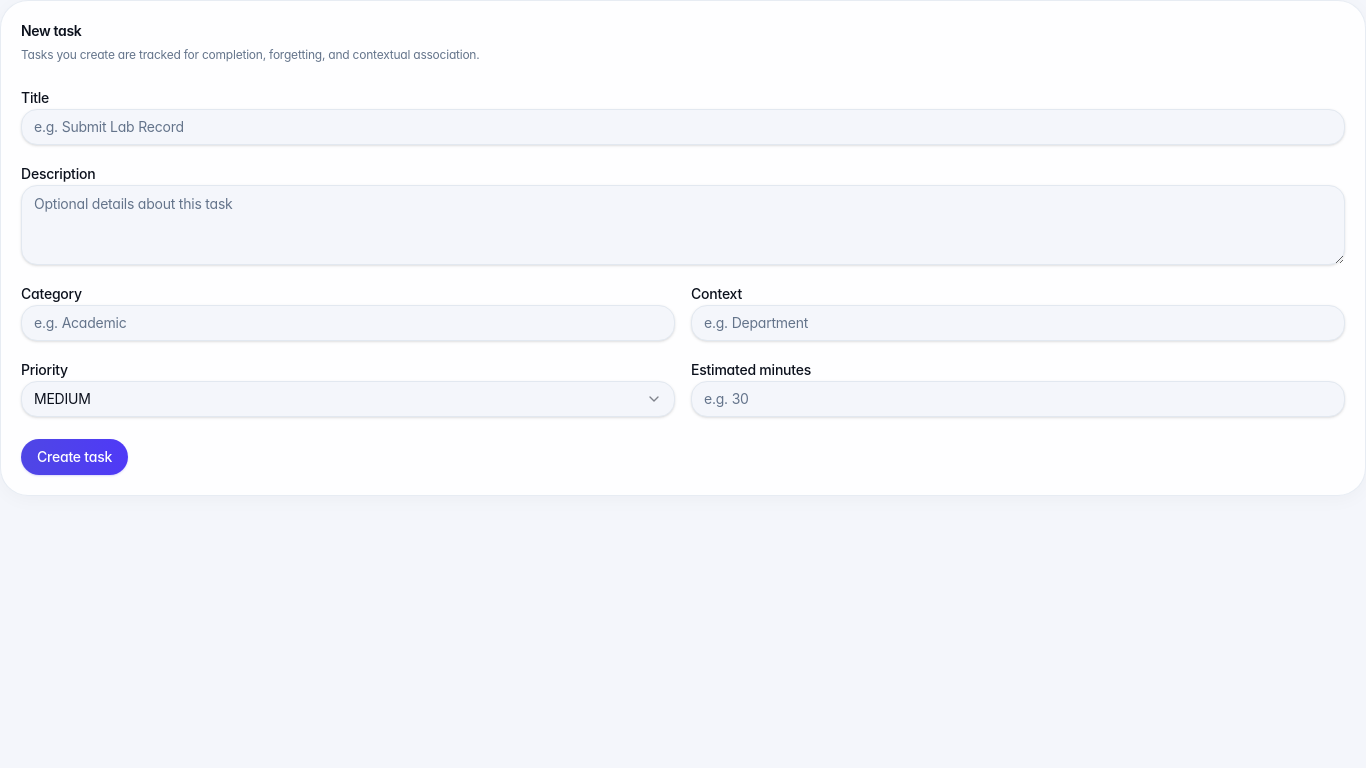
it: TaskCreateForm › shows a validation error and does not submit when required fields are empty
Step 1. Click the button "Create task" → coordinates (75, 456), box top-left (21, 438), bottom-right (128, 474)
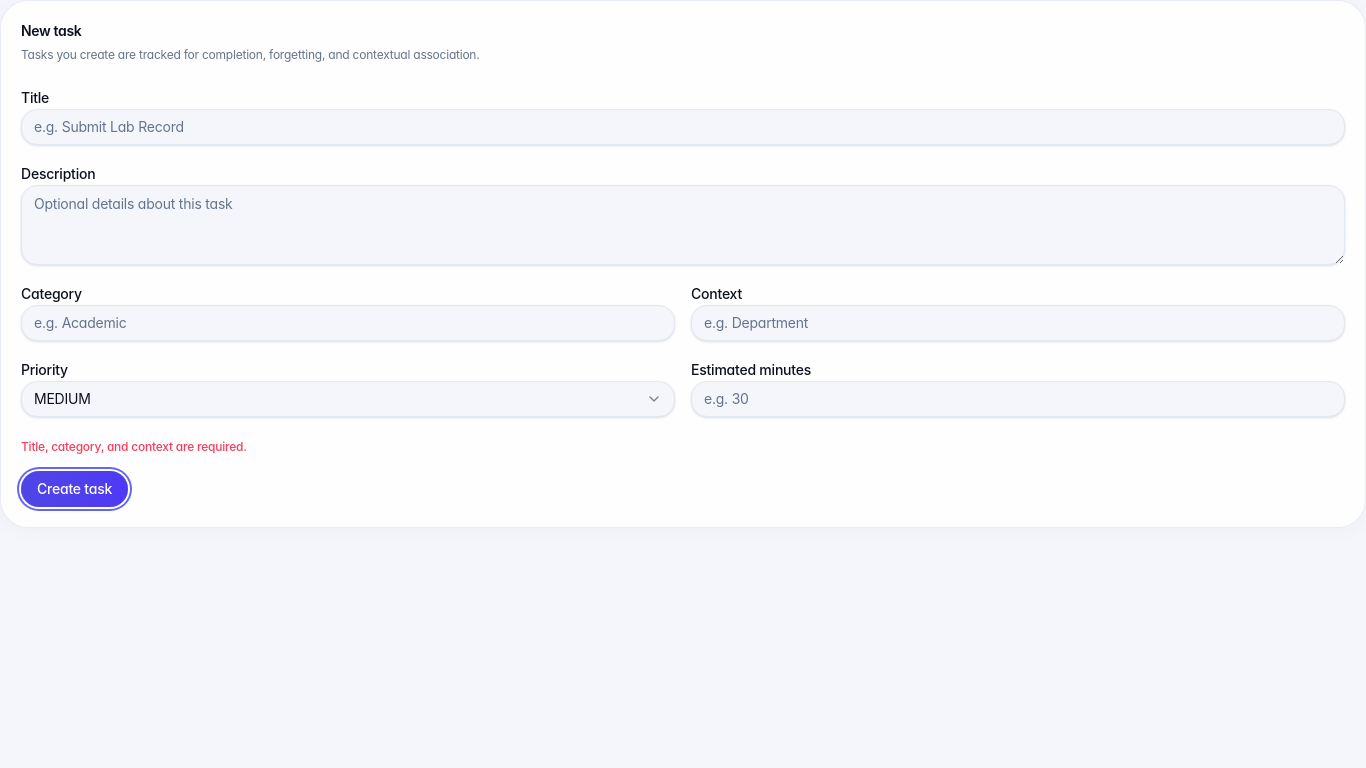
Expected: the text "Title, category, and context are required." is shown, top-left (21, 438), bottom-right (247, 454)
